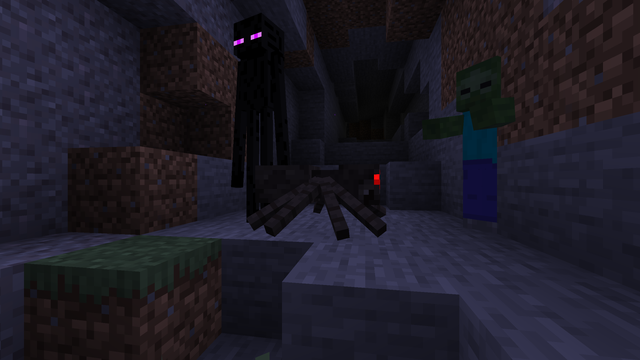araignees: (259, 153, 383, 237)
endermens: (229, 5, 285, 226)
zombies: (453, 61, 501, 234)
